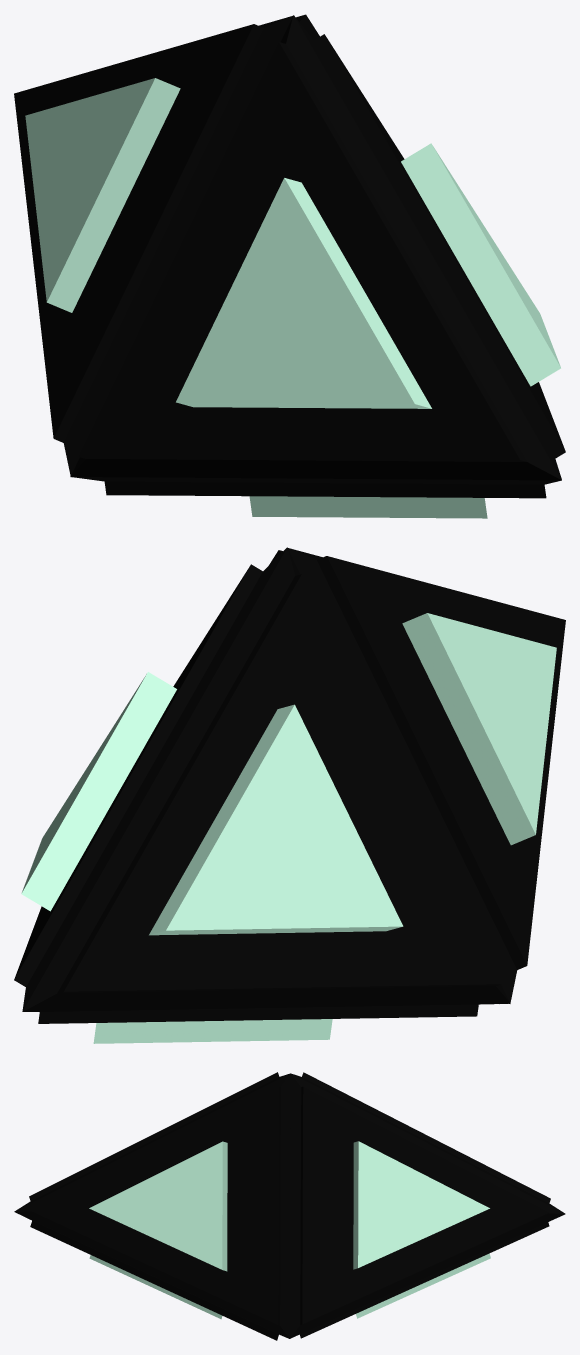
File: triangle.gltf
3 renders of one model, top to bottom at view 1: azimuth 30°, elevation 25°; view 2: azimuth 150°, elevation 25°; view 3: azimuth 270°, elevation 25°, orthographic. The views are drawn at different scales.
Parts seen in each view (by area): view 1: Cone.001; view 2: Cone.001; view 3: Cone.001.
Part boxes in pixels (<box>): Cone.001: <box>14,14,565,518</box>; Cone.001: <box>14,547,565,1043</box>; Cone.001: <box>14,1072,565,1340</box>.
Size of the model in its own units: 6.58 by 5.91 by 13.46.
